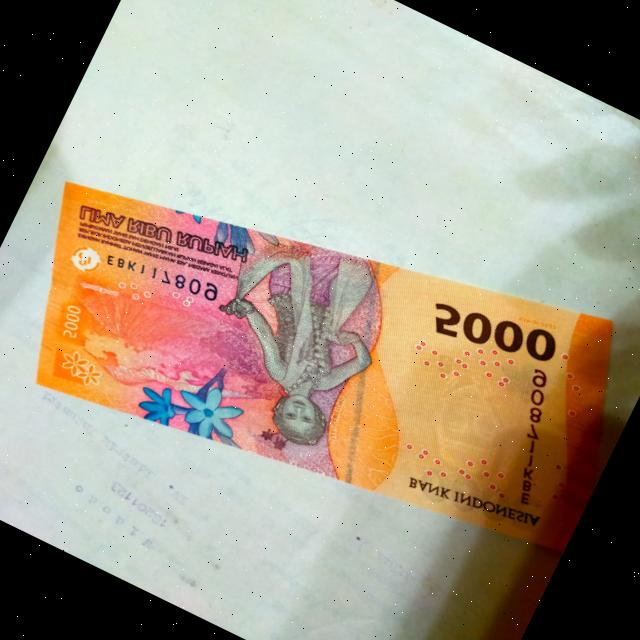5K: (0, 74, 640, 624)
